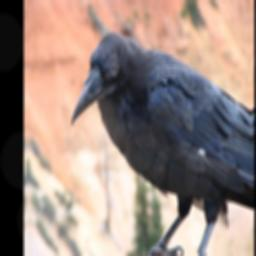Crow: (68, 18, 253, 256)
